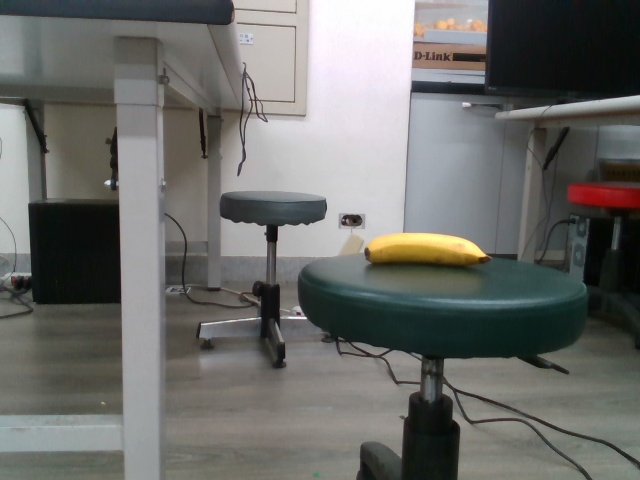banana: (363, 231, 493, 271)
